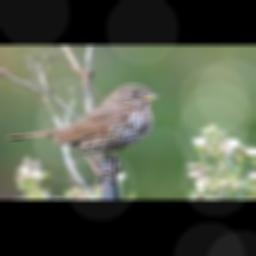Sparrow: (7, 83, 159, 186)
